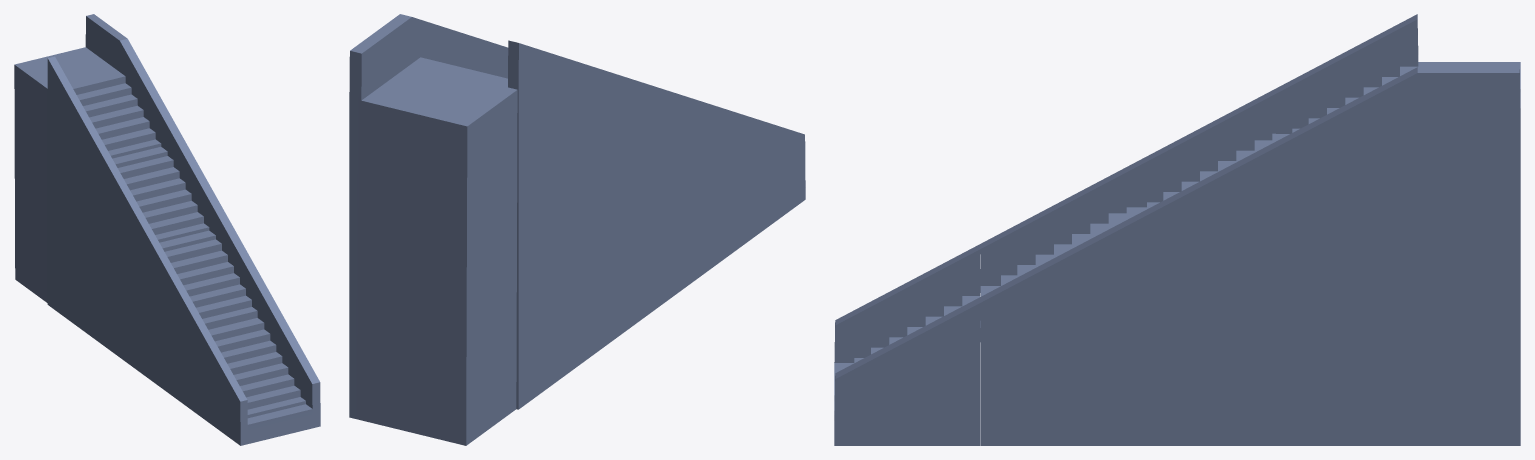
Rendered from stairs_common_room 1.fbx.
3 views of the same model, side by side, from view 1: azimuth 30°, elevation 25°; view 2: azimuth 150°, elevation 25°; view 3: azimuth 270°, elevation 25° (orthographic). The views are drawn at different scales.
Visible parts, largest first — view 1: pCube89; view 2: pCube89; view 3: pCube89.
Boxes of the visible parts, bbox=[...] form: pCube89: bbox=[14, 14, 320, 445]; pCube89: bbox=[349, 14, 805, 445]; pCube89: bbox=[834, 14, 1520, 445].
Bounding box in the file's own units: 29.61 × 87.21 × 145.
